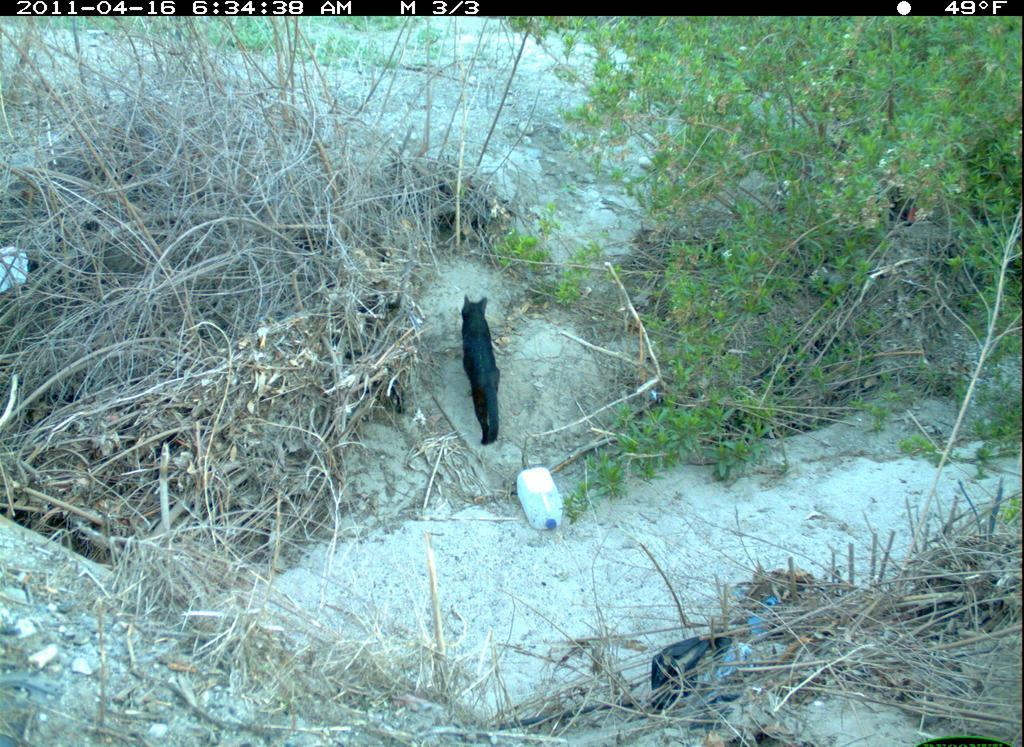cat: (455, 285, 515, 451)
